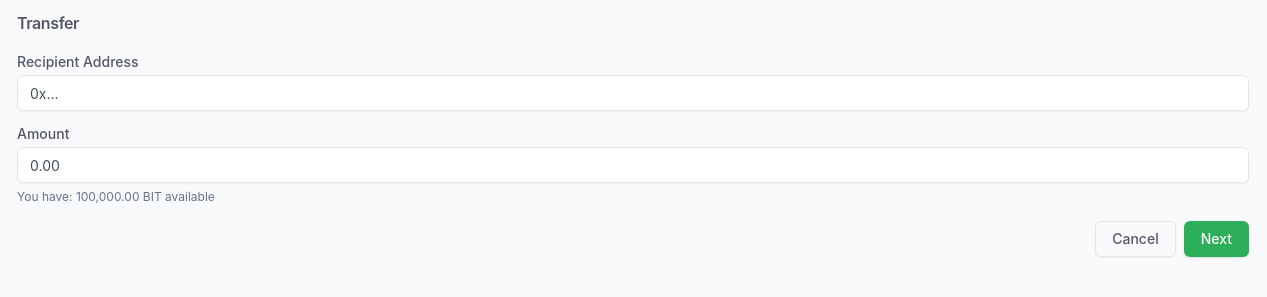
Scenario: TransferForm Component › shows validation error for incorrectly formatted amount with commas
This screenshot has width=1267, height=297.
In the field labelled "Recipient Address": (633, 93) x1=17 y1=75 x2=1249 y2=111, type "0x1234567890abcdef1234567890abcdef12345678"
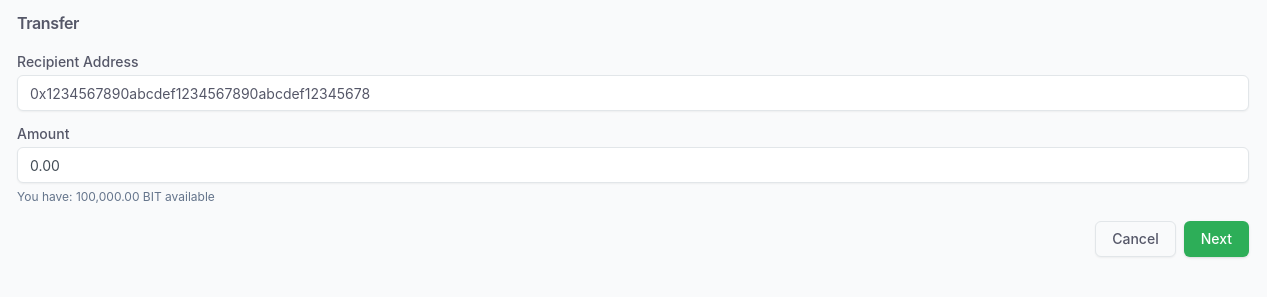
In the field labelled "Amount": (633, 165) x1=17 y1=147 x2=1249 y2=183, type "1,00,0"
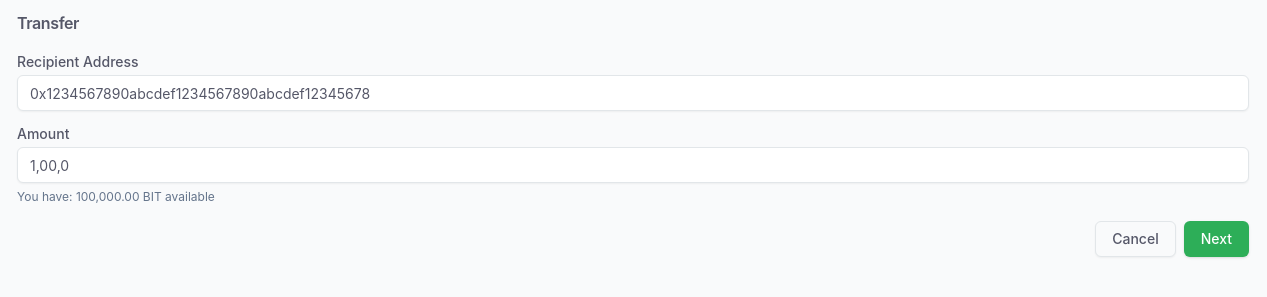
Click the button "Next": (1216, 239) x1=1184 y1=221 x2=1249 y2=257
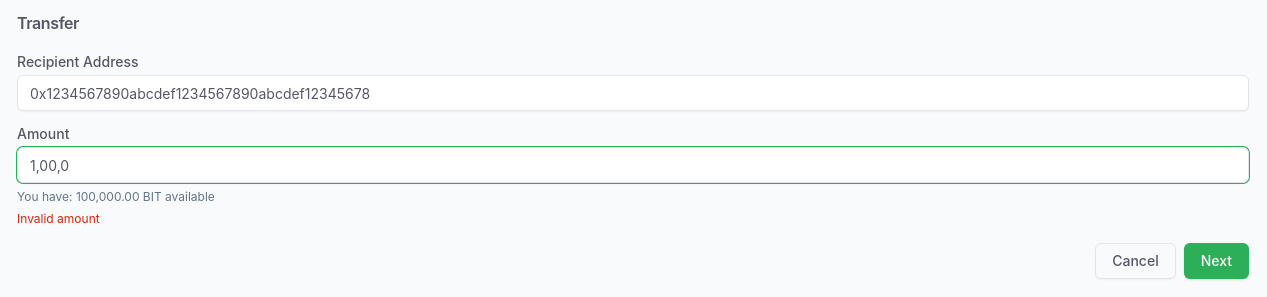
Check: the text "Invalid amount" is shown, box x1=17 y1=211 x2=100 y2=226
